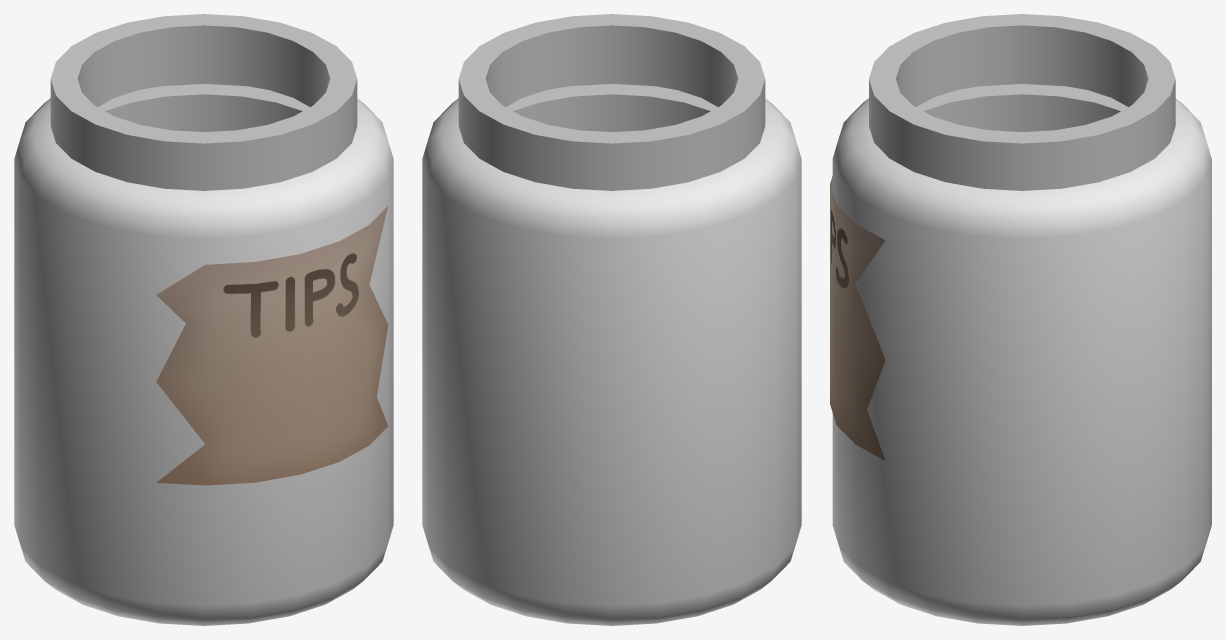
File: tips_1.fbx
3 renders of one model, left to right at view 1: azimuth 30°, elevation 25°; view 2: azimuth 150°, elevation 25°; view 3: azimuth 270°, elevation 25°, orthographic.
Visible parts, largest first — view 1: Cylinder, Cylinder.001, Cylinder.002; view 2: Cylinder, Cylinder.002; view 3: Cylinder, Cylinder.001, Cylinder.002.
Part boxes in pixels (<box>): Cylinder: <box>14,14,393,625</box>; Cylinder.001: <box>156,206,388,485</box>; Cylinder.002: <box>98,84,309,131</box>; Cylinder: <box>422,14,801,625</box>; Cylinder.002: <box>506,84,717,131</box>; Cylinder: <box>832,14,1211,625</box>; Cylinder.001: <box>830,176,885,460</box>; Cylinder.002: <box>916,84,1127,131</box>.
Size of the model in its own units: 2 by 2.79 by 2.01.
